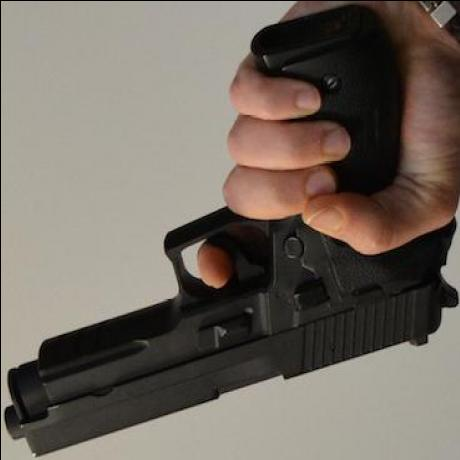1: (221, 0, 460, 257)
weapon: (4, 4, 458, 458)
